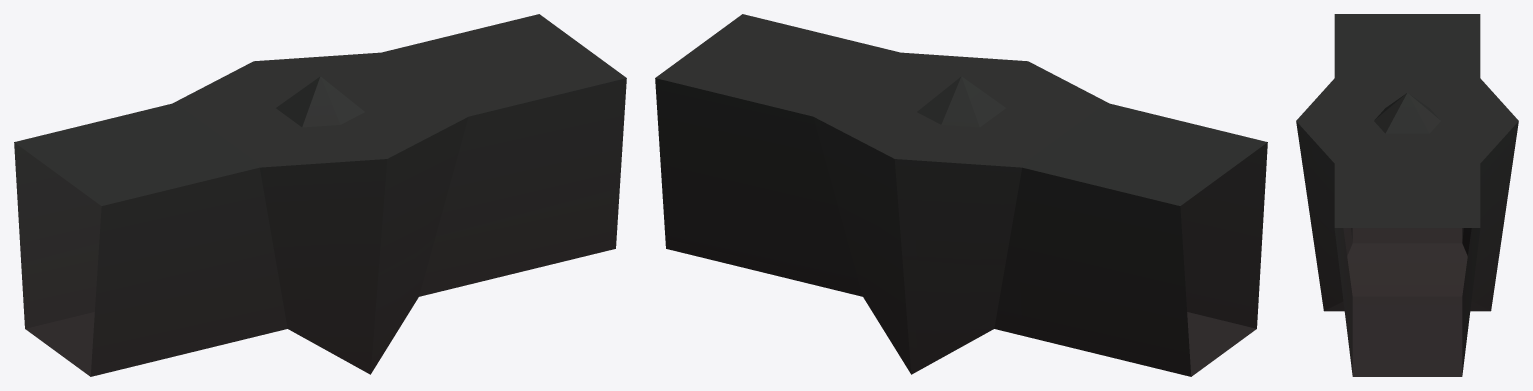
File: SM_RailSide_01.fbx
The picture shows the model from 3 angles, left to right: view 1: azimuth 30°, elevation 25°; view 2: azimuth 150°, elevation 25°; view 3: azimuth 270°, elevation 25°; orthographic projection. The views are drawn at different scales.
Visible parts, largest first — view 1: SM_RailSide_01; view 2: SM_RailSide_01; view 3: SM_RailSide_01.
Part boxes in pixels (box(x1,y1,x2,y2)): SM_RailSide_01: box(14, 14, 626, 376); SM_RailSide_01: box(655, 14, 1267, 376); SM_RailSide_01: box(1296, 14, 1518, 376).
Size of the model in its own units: 200 by 95.29 by 88.07.
Materials: 1 (1 with a texture image).
